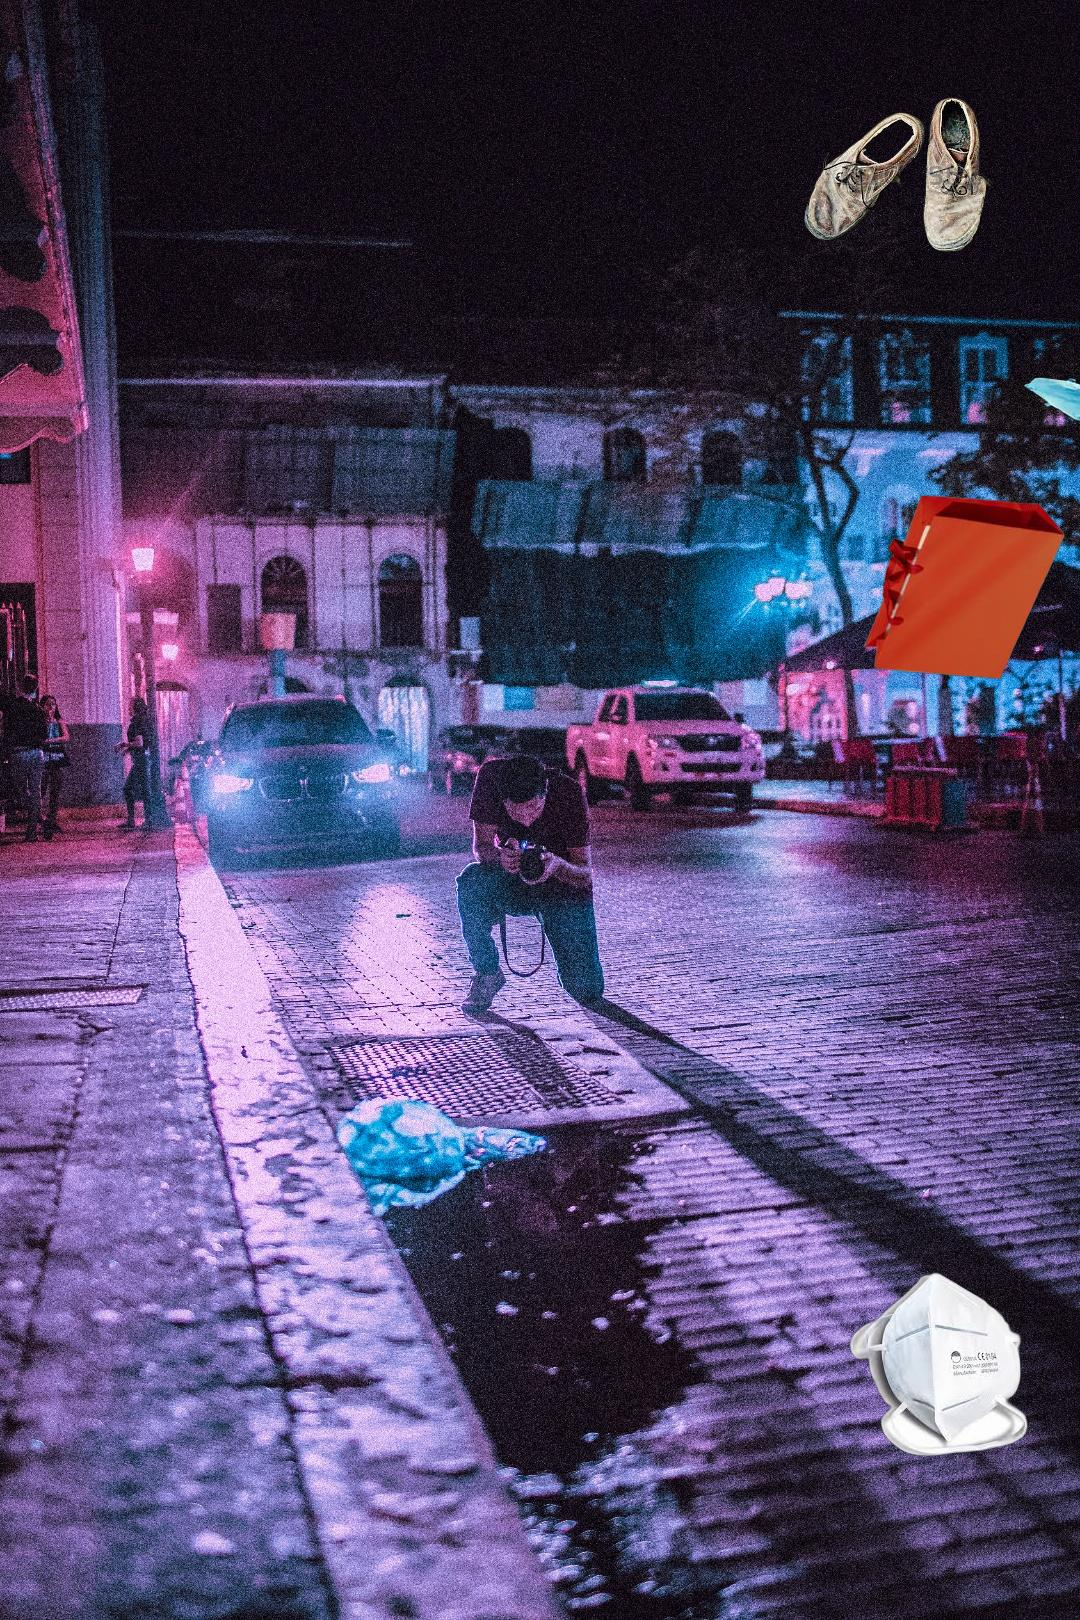paper-bag: (859, 494, 1066, 682)
plastic-bag: (1021, 276, 1080, 513)
shoes: (802, 95, 1003, 254)
trash: (846, 1270, 1031, 1458)
